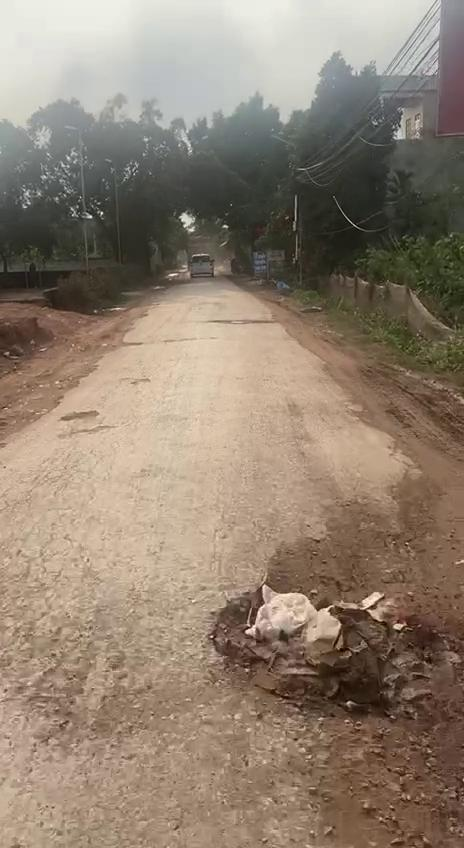pothole: (212, 582, 454, 728)
